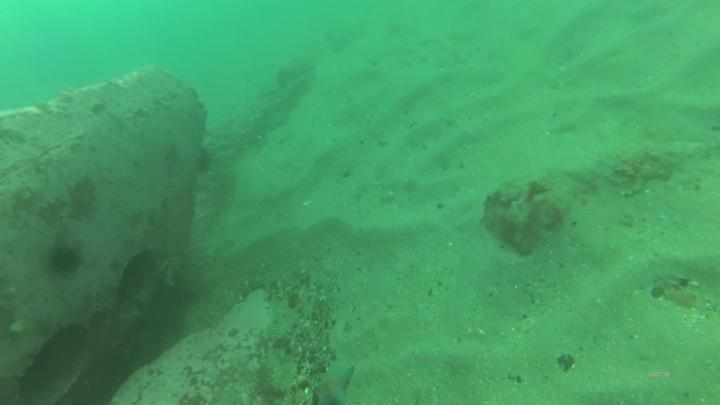echinus: (49, 243, 83, 279)
starfish: (307, 358, 358, 405)
